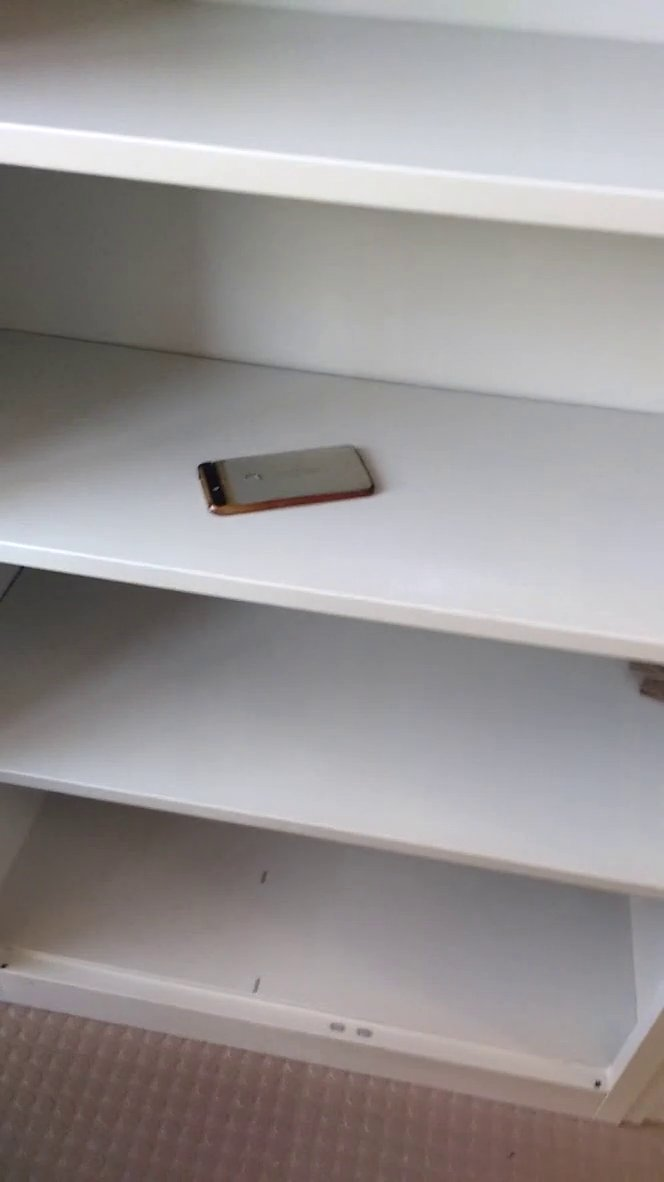phone: (185, 428, 391, 536)
